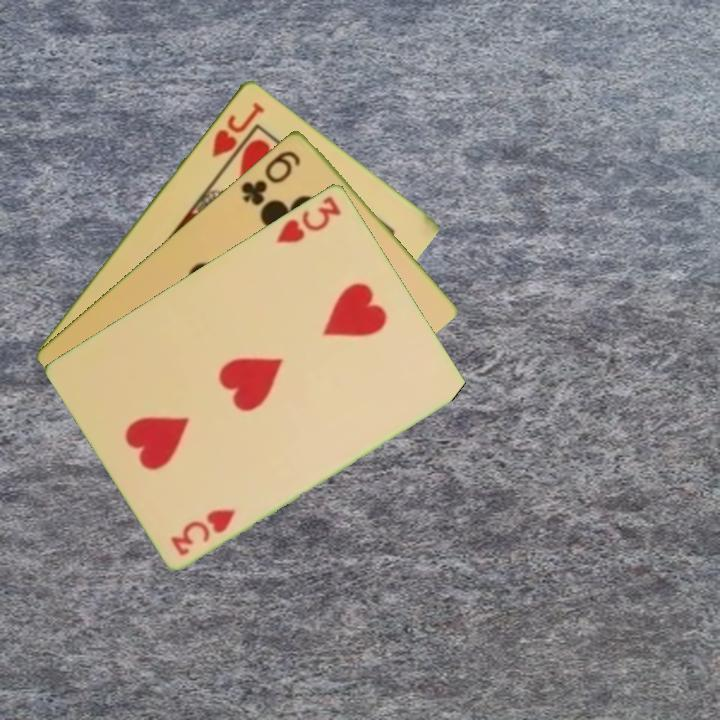3h: (272, 192, 345, 246), (167, 504, 239, 558)
6c: (237, 146, 304, 208)
Jh: (208, 98, 268, 160)
